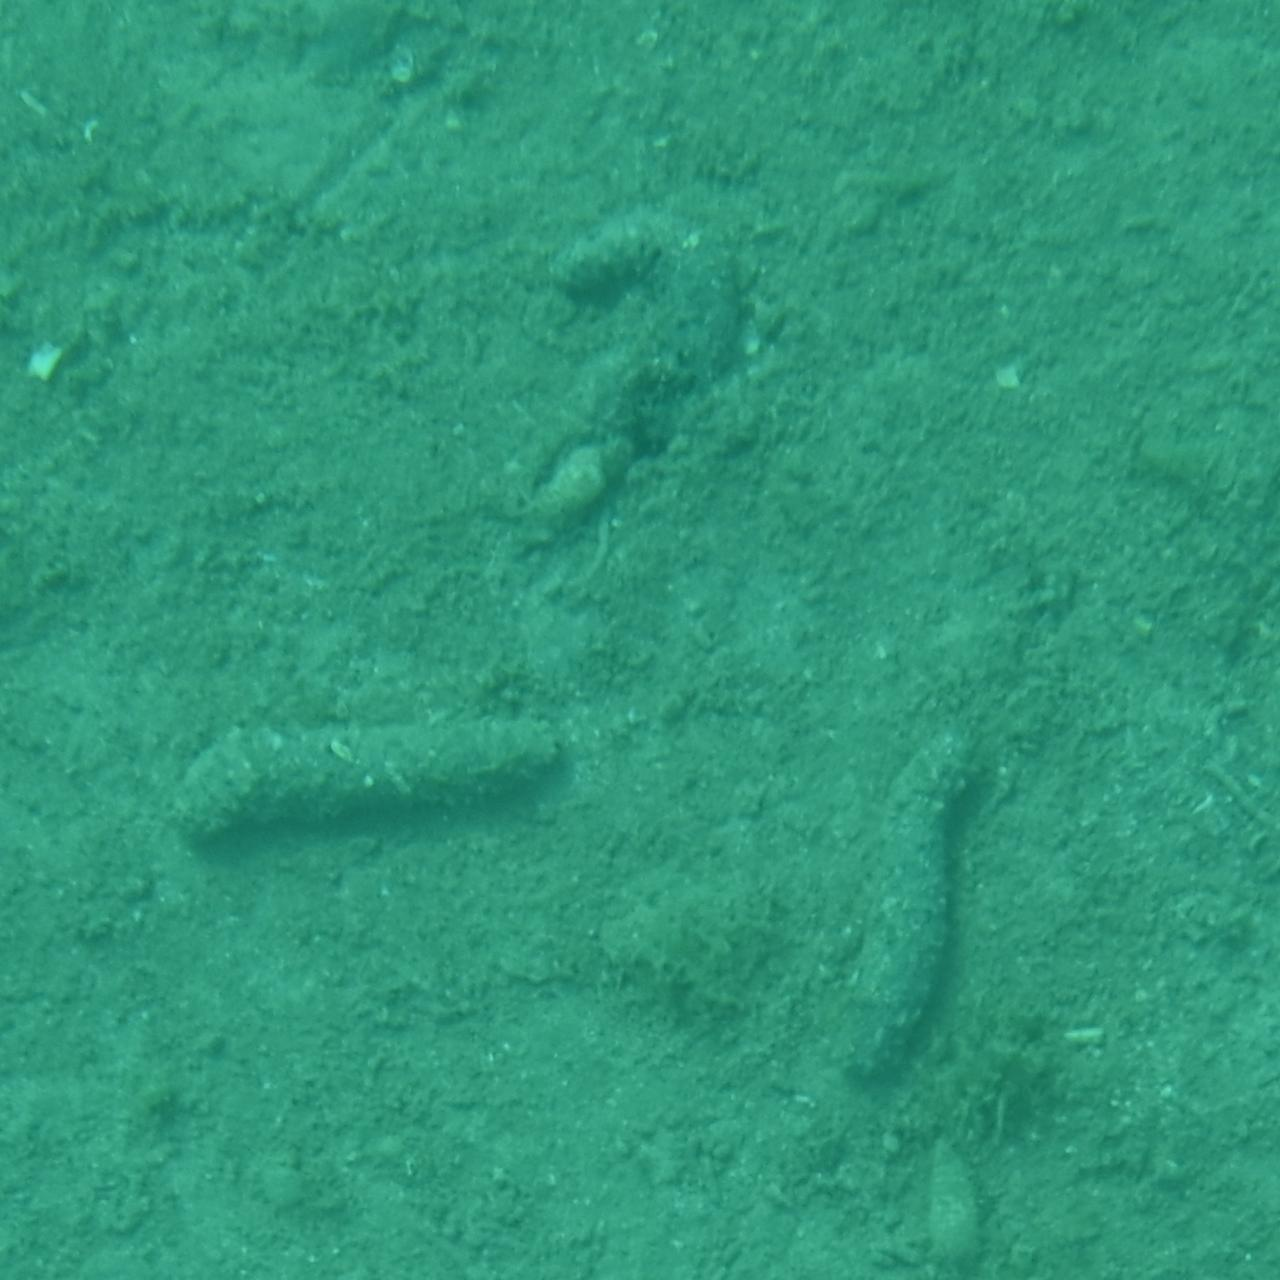Holothuria tubulosa: (493, 200, 768, 545), (798, 721, 1001, 1095), (178, 704, 584, 871)
